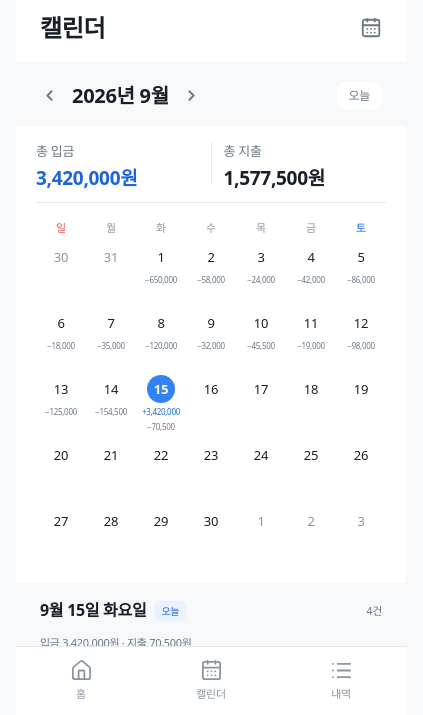
Test case: CalendarPage › 이웃 달 날짜를 누르면 그 달로 이동하고 그 날짜를 선택한다
Click the button named "8월 31일 월요일" at (111, 275), box [86,243,136,307]
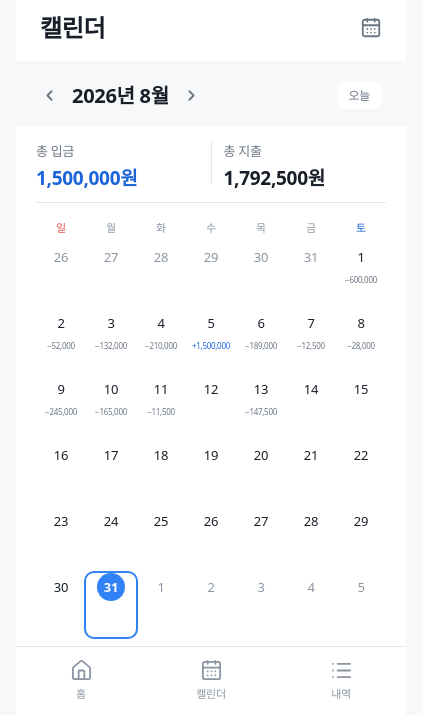
Expected: the heading "8월 31일 월요일" is shown, [40,665,146,689]
Expected: the text "2026년 8월" is shown, [72,81,169,110]
